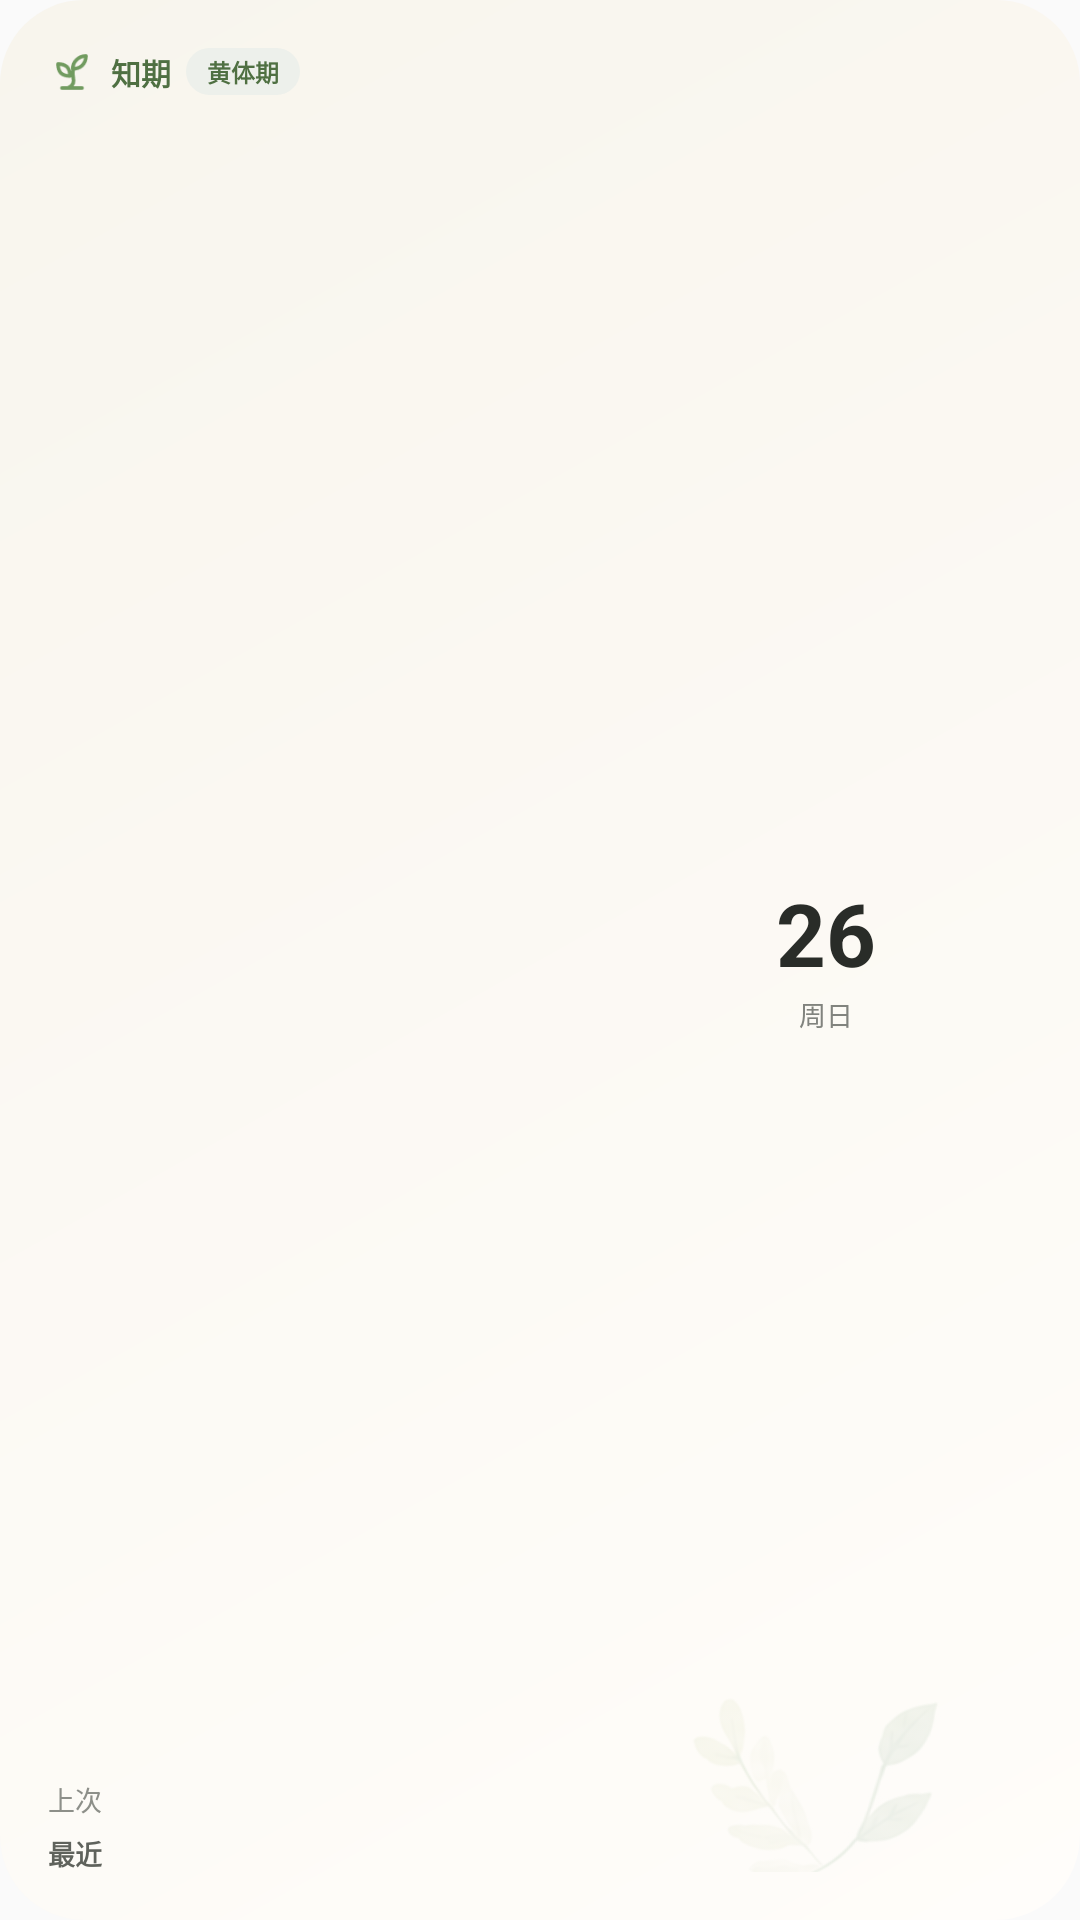

Locate icon controls on the screen. Image size 1080w x 1920h, boxes as (x1, y1, x2, y2).
widget sprout: (56, 54, 88, 90)
